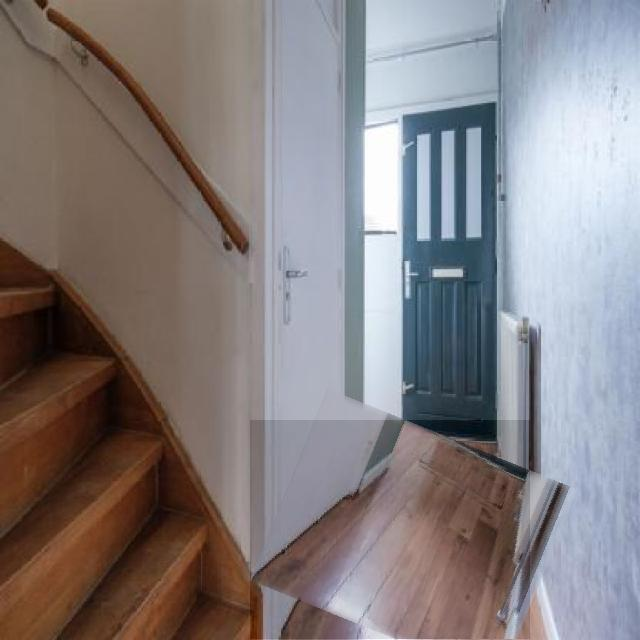floor: (250, 421, 530, 640)
